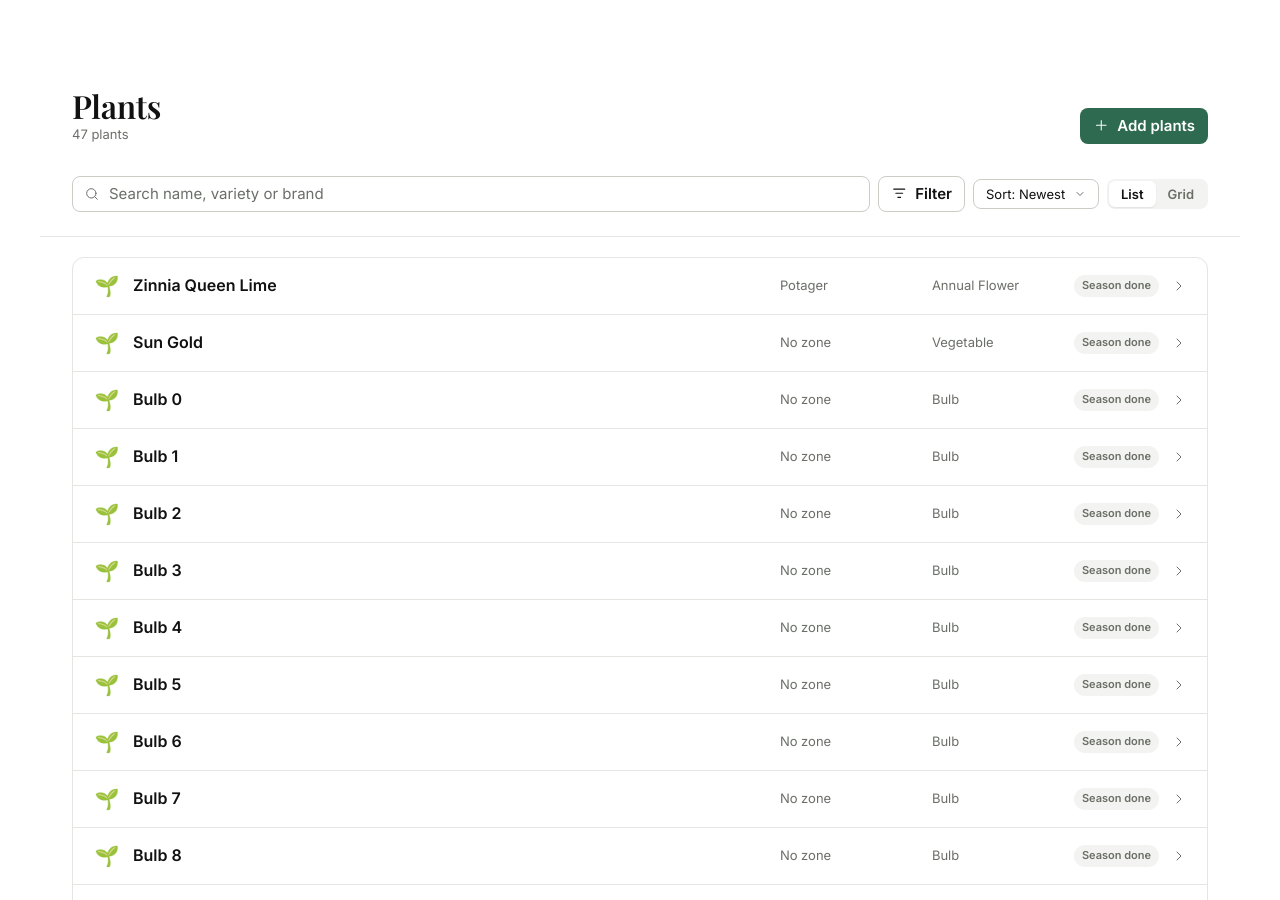
Plants page filters › closes the sheet with Escape without applying the draft
The image size is (1280, 900).
Click the button "Filter". click: (921, 194)
box: [878,176,965,212]
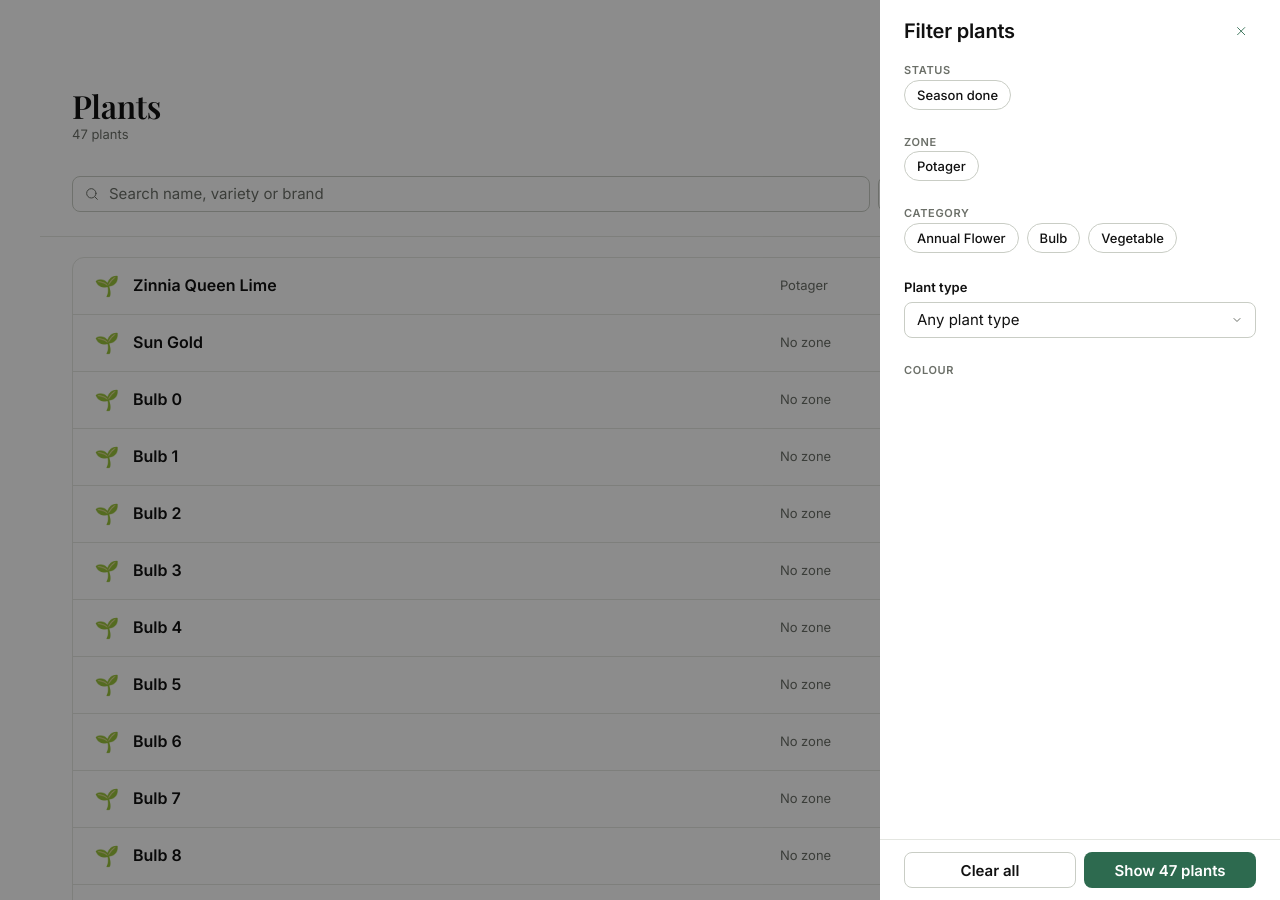
Click the button "Vegetable". click: (1133, 238)
box: [1088,223,1177,253]
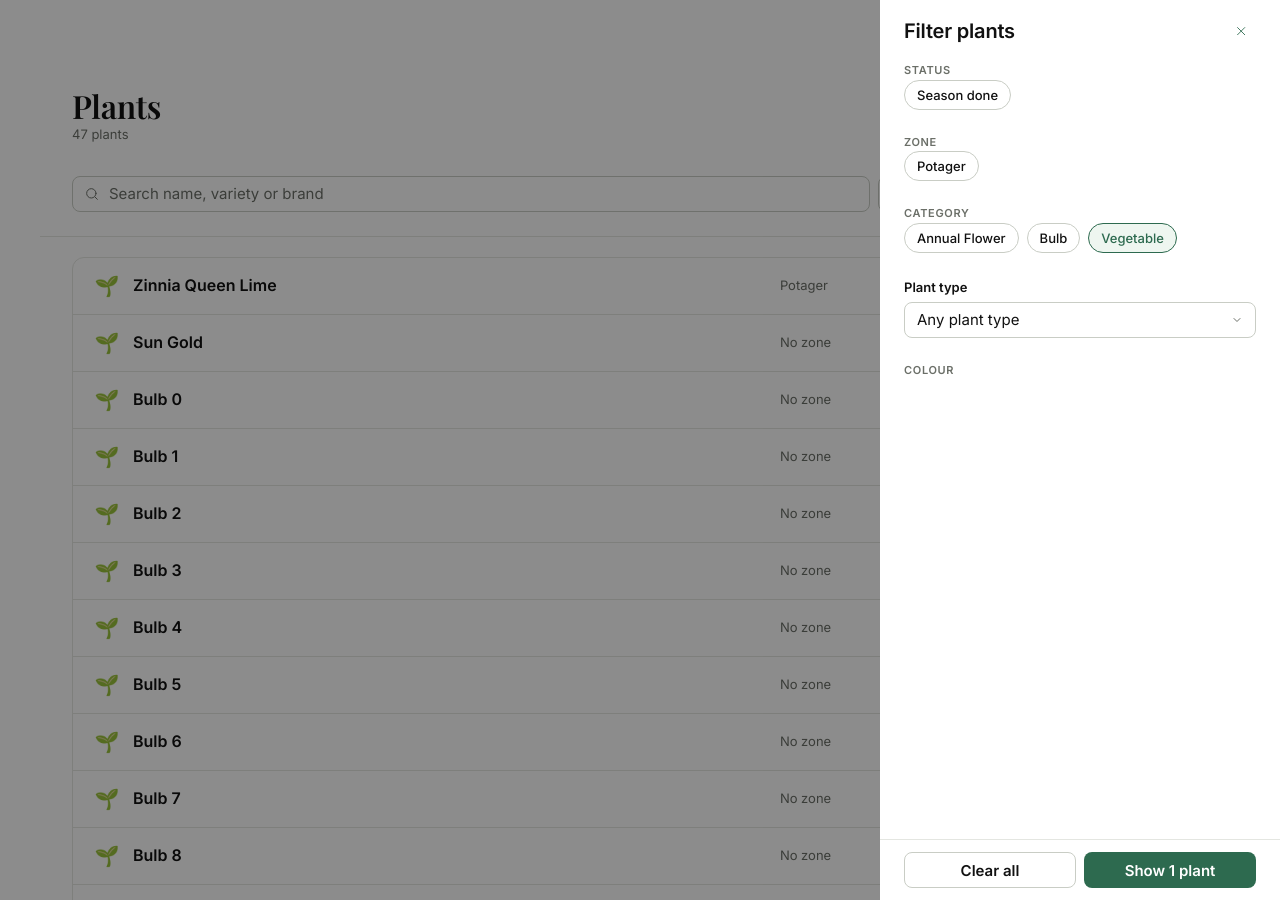
Press Escape
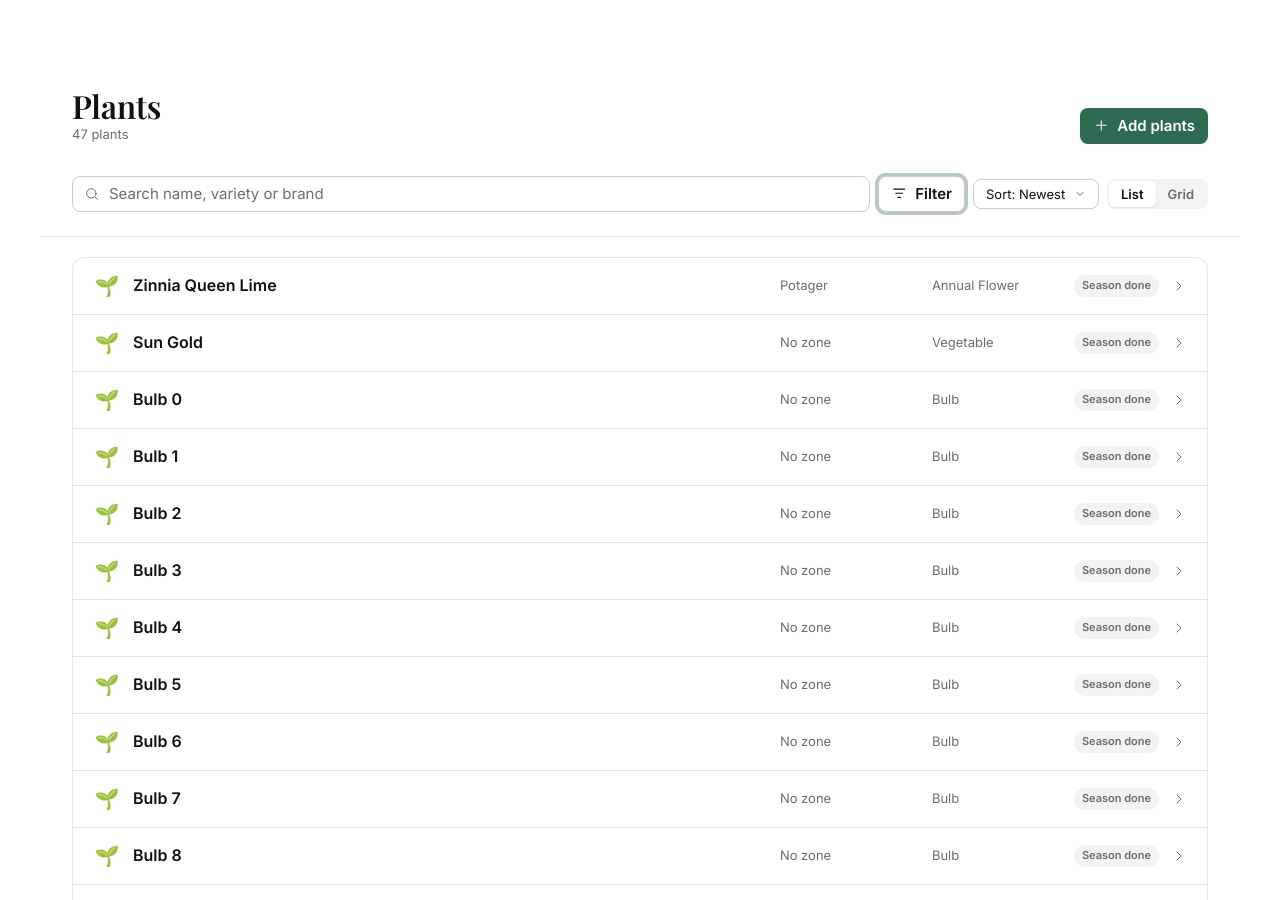
Check: the text "47 plants" is shown, box [72,126,128,142]
Check: the dialog is gone
